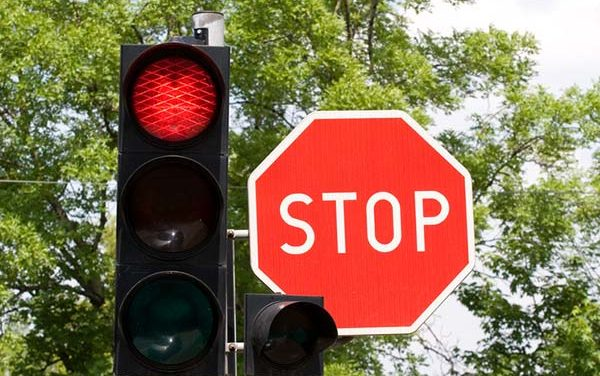stop: (259, 128, 470, 310)
